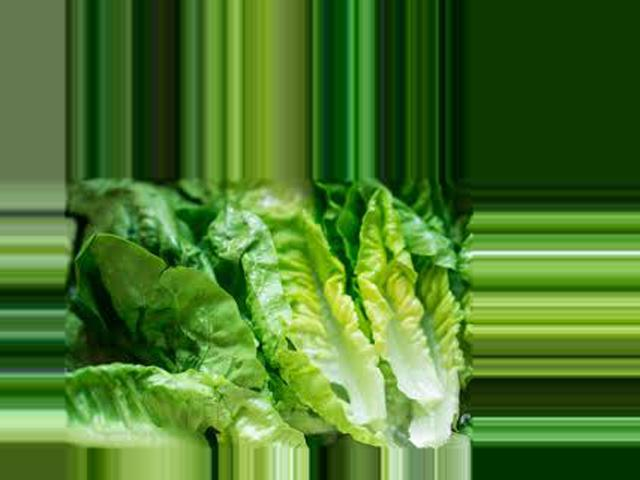lettuce: (202, 195, 463, 450)
